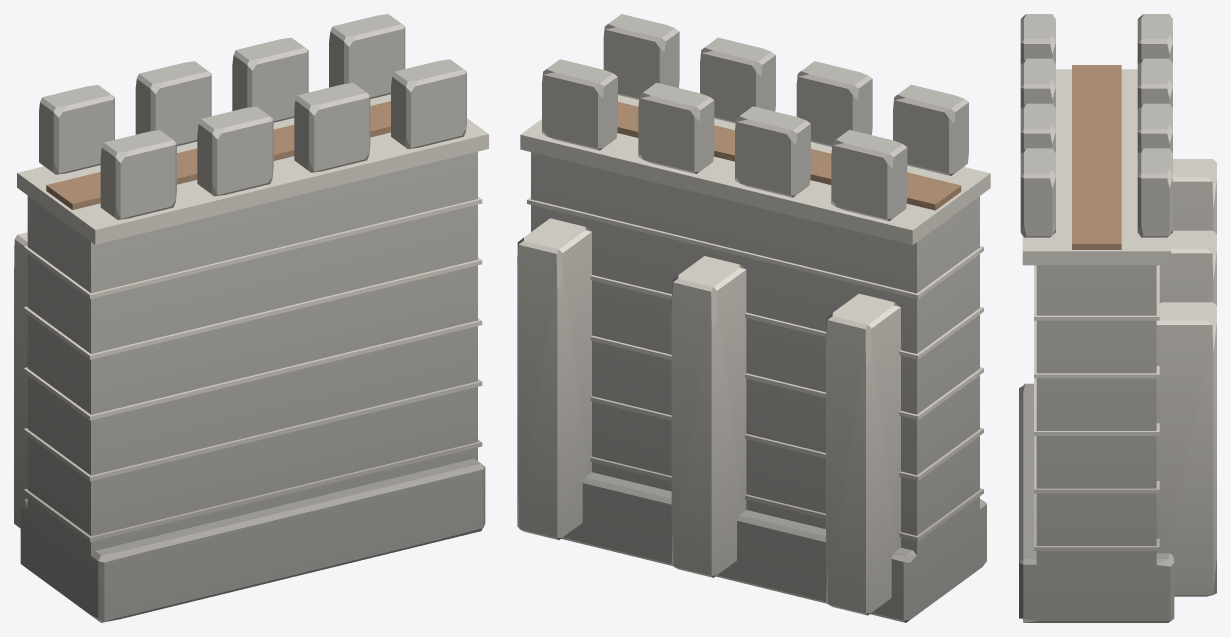
The model's file is mauer_zinnen.glb.
3 views of the same model, side by side, from view 1: azimuth 30°, elevation 25°; view 2: azimuth 150°, elevation 25°; view 3: azimuth 270°, elevation 25° (orthographic). The views are drawn at different scales.
Visible parts, largest first — view 1: G_mauer_zinnen; view 2: G_mauer_zinnen; view 3: G_mauer_zinnen.
Part boxes in pixels (box(x1,y1,x2,y2)): G_mauer_zinnen: box(14, 14, 488, 622); G_mauer_zinnen: box(517, 14, 990, 622); G_mauer_zinnen: box(1019, 14, 1216, 622).
Bounding box in the file's own units: 6.1 × 6.9 × 2.8.
